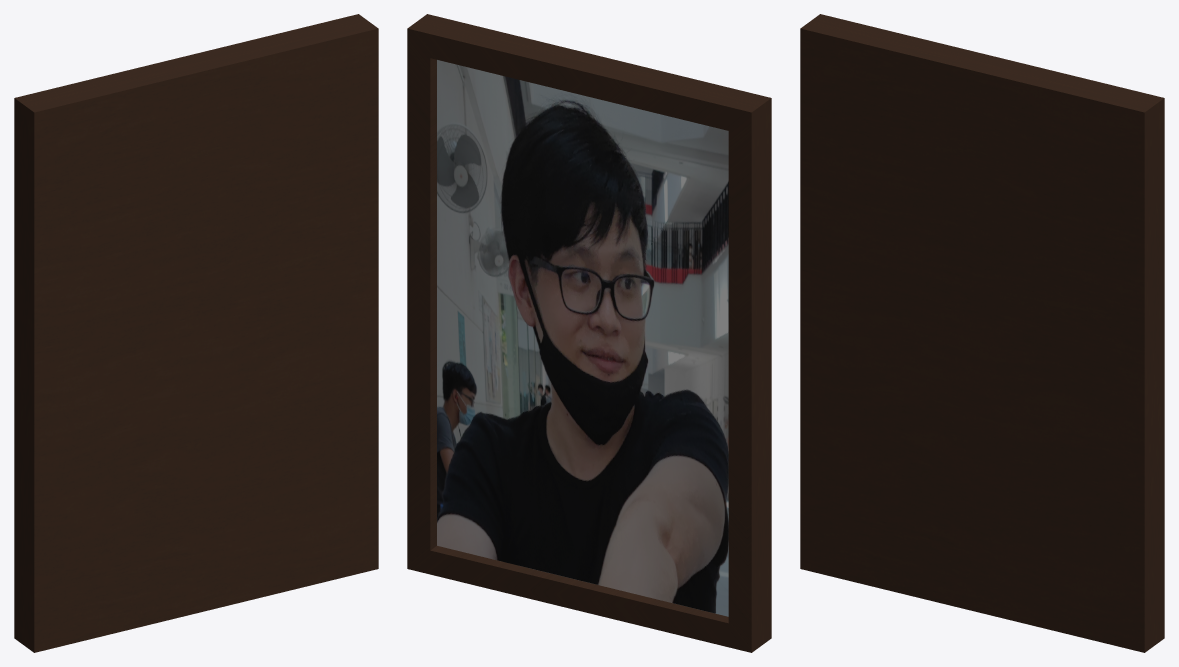
File: Cantius_Portrait2.fbx
3 renders of one model, left to right at view 1: azimuth 30°, elevation 25°; view 2: azimuth 150°, elevation 25°; view 3: azimuth 330°, elevation 25°, orthographic.
Parts seen in each view (by area): view 1: Box002; view 2: Box002; view 3: Box002.
Part boxes in pixels (x1,y1,x2,y2): Box002: [14, 14, 378, 652]; Box002: [407, 14, 771, 652]; Box002: [800, 14, 1164, 652].
Bounding box in the file's own units: 0.3 × 0.45 × 0.03.
